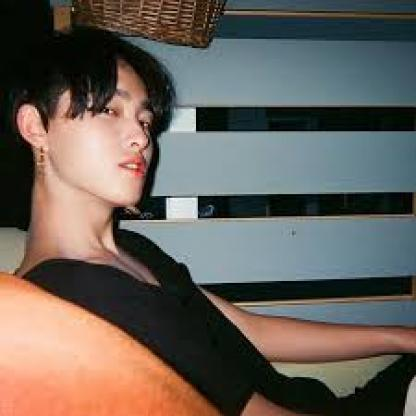person: (12, 25, 170, 206)
